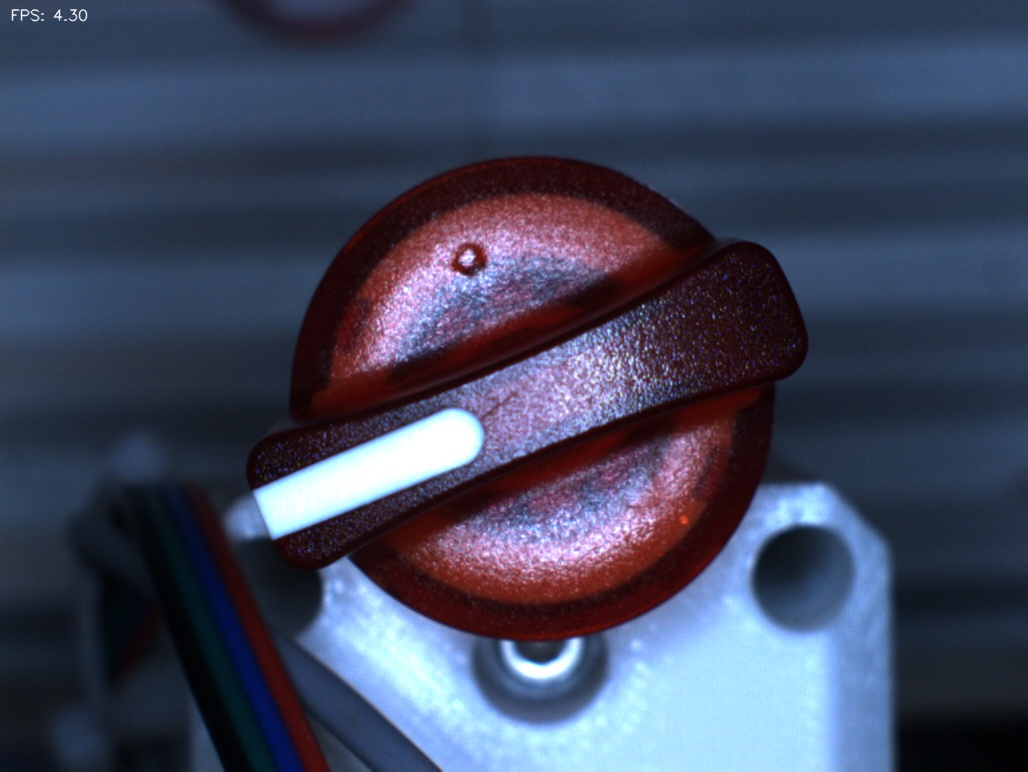Choc: (427, 224, 508, 305)
